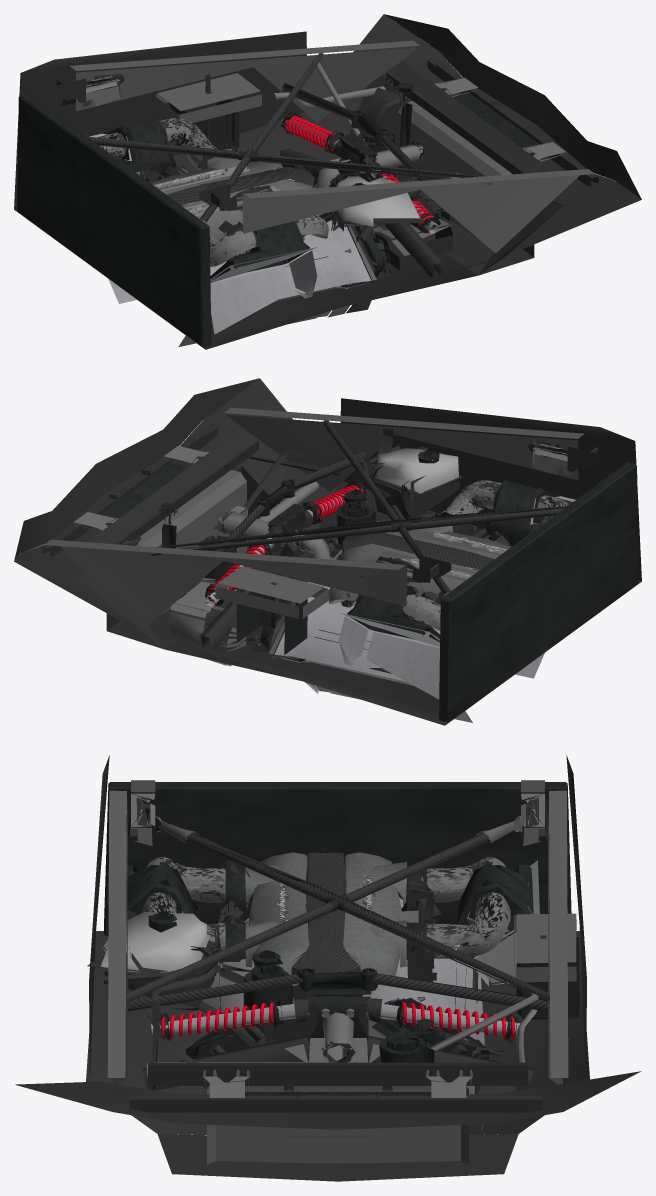
File: eng-v12-65-na.glb
3 renders of one model, top to bottom at view 1: azimuth 30°, elevation 25°; view 2: azimuth 150°, elevation 25°; view 3: azimuth 270°, elevation 25°, orthographic. The views are drawn at different scales.
Parts seen in each view (by area): view 1: p0; view 2: p0; view 3: p0.
Boxes of the visible parts, x1=… form: p0: x1=14, y1=14, x2=641, y2=349; p0: x1=14, y1=378, x2=641, y2=725; p0: x1=15, y1=755, x2=641, y2=1181.
Bounding box in the file's own units: 1.68 × 0.7462 × 1.66.
Materials: 12 (4 with a texture image).
